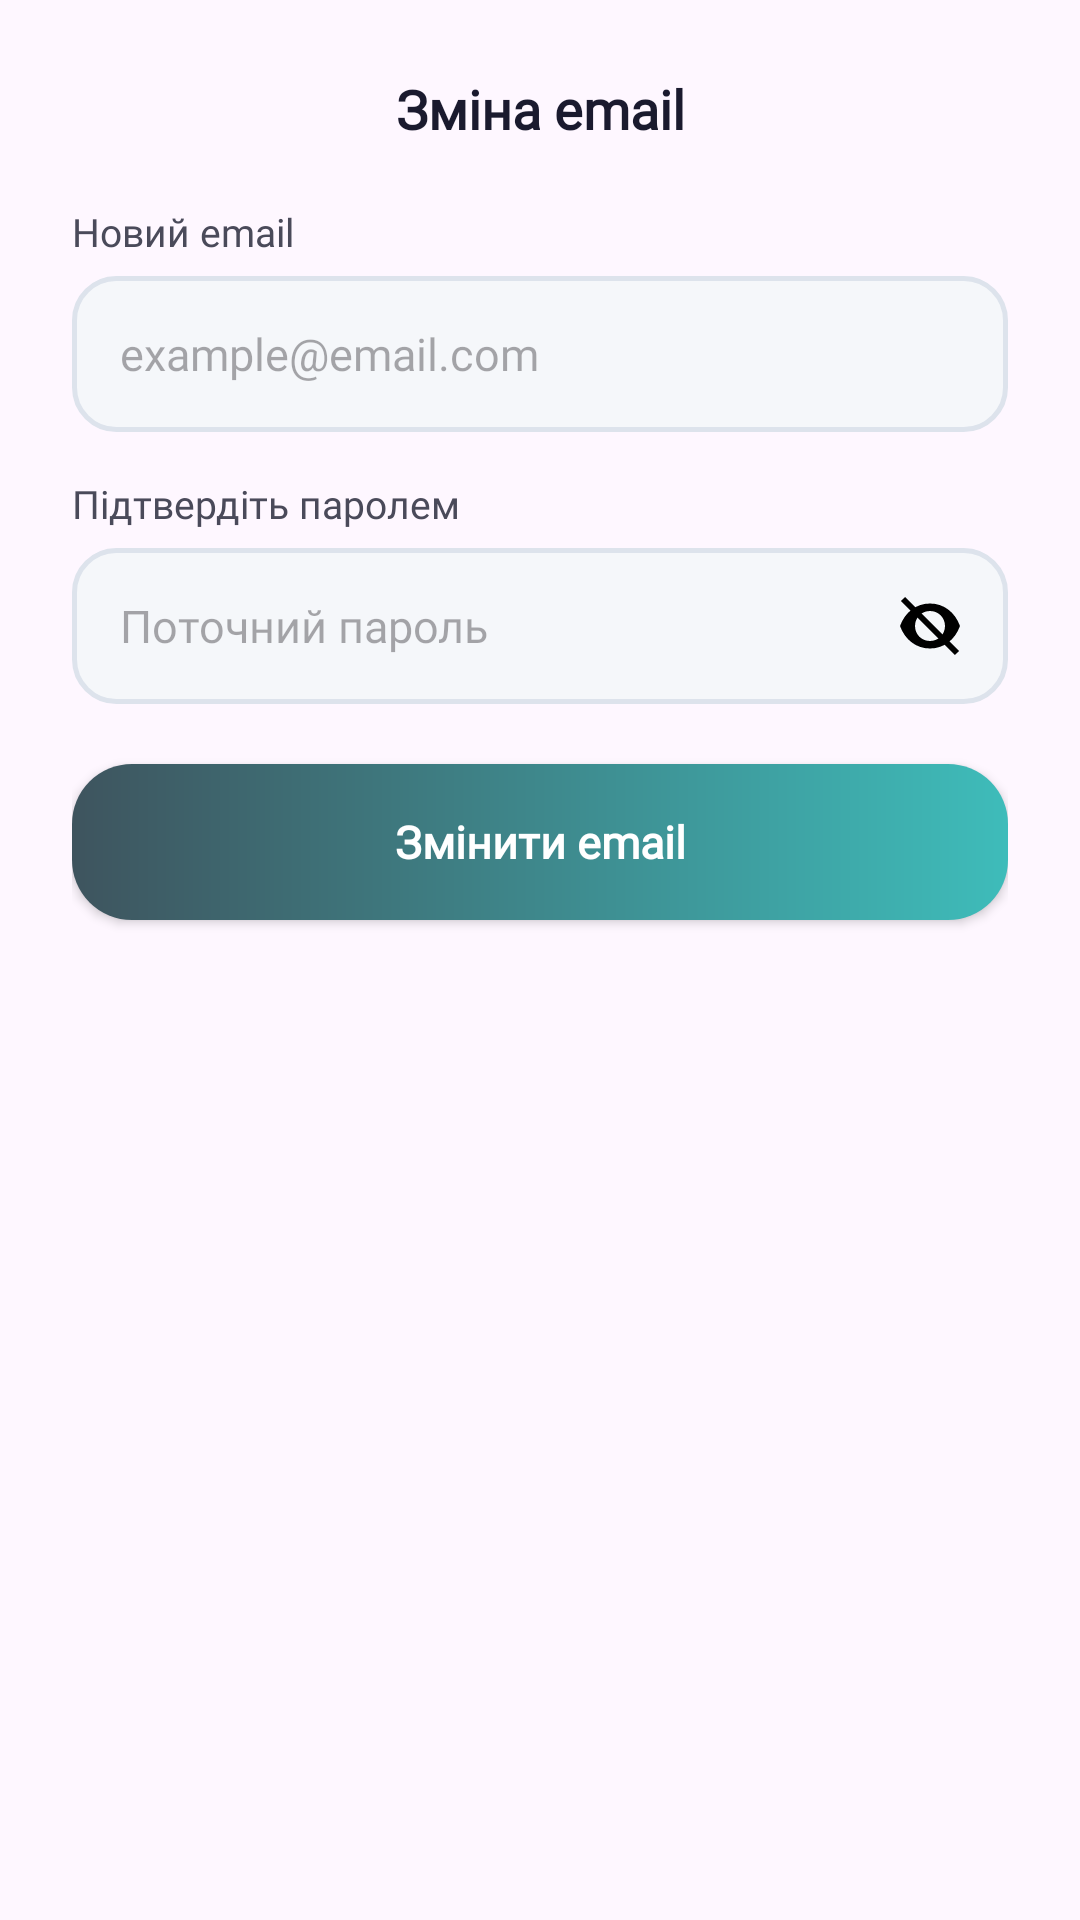

Where icons sit on this 1080x1920 app screen, as region(x1, y1, x2, y2):
Toggle password visibility: region(900, 597, 960, 655)
